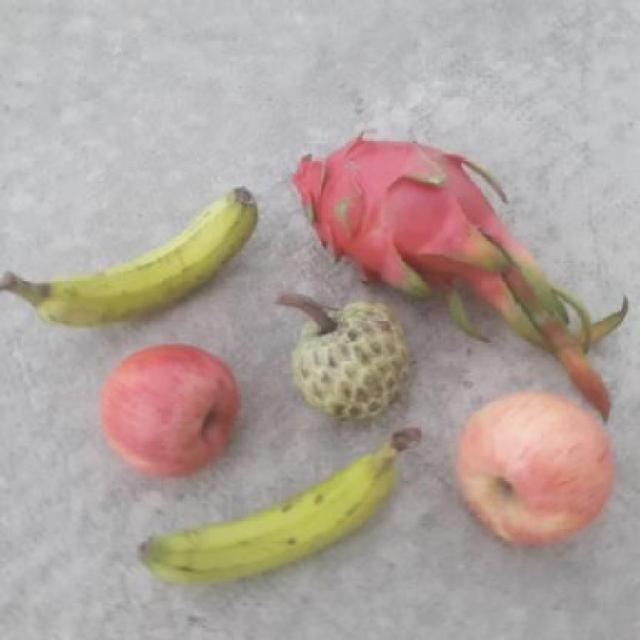apple: (446, 390, 616, 552), (95, 340, 242, 477)
banana: (138, 423, 418, 594), (1, 182, 262, 338)
dragon fruit: (274, 122, 520, 298)
sugar apple: (283, 296, 419, 424)
